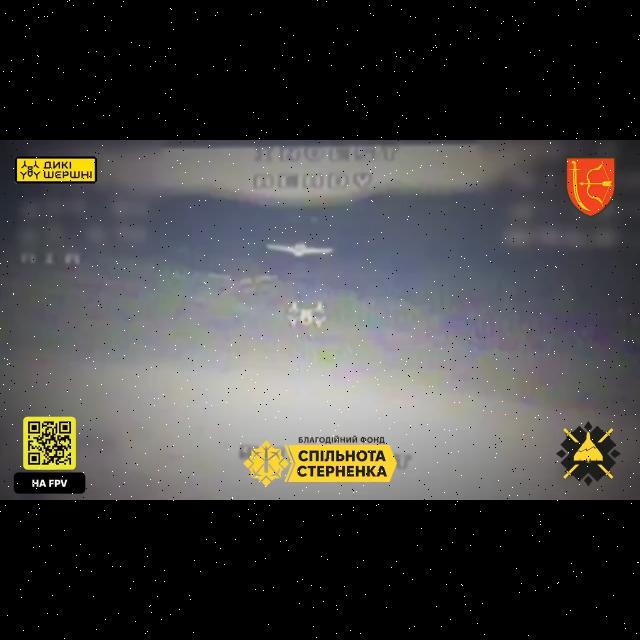Gerbera: (266, 241, 334, 257)
